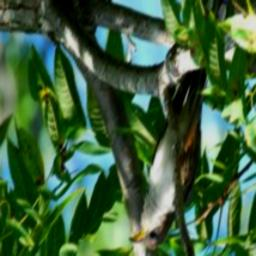Cuckoo: (129, 71, 208, 252)
